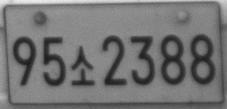2: (101, 34, 127, 86)
3: (130, 35, 155, 85)
5: (41, 36, 66, 86)
8: (189, 34, 216, 85), (160, 33, 186, 84)
9: (12, 35, 36, 86)
소: (69, 45, 95, 86)
